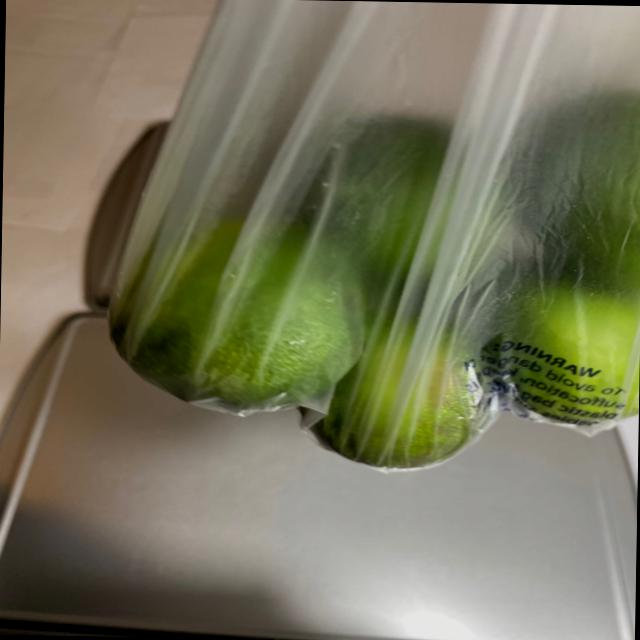lemon: (114, 97, 640, 456)
